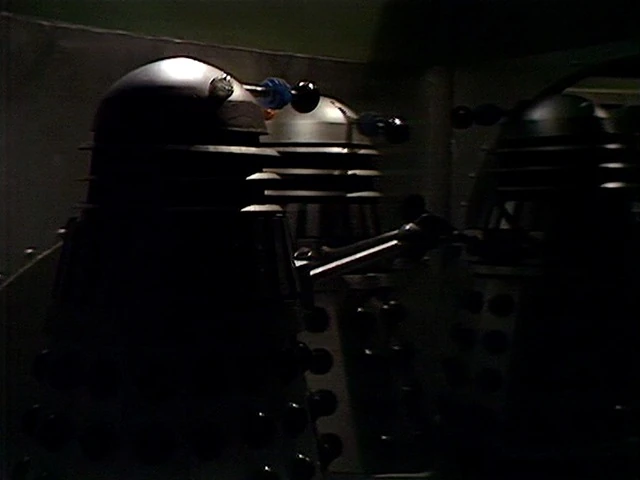Dalek: (98, 31, 425, 264)
